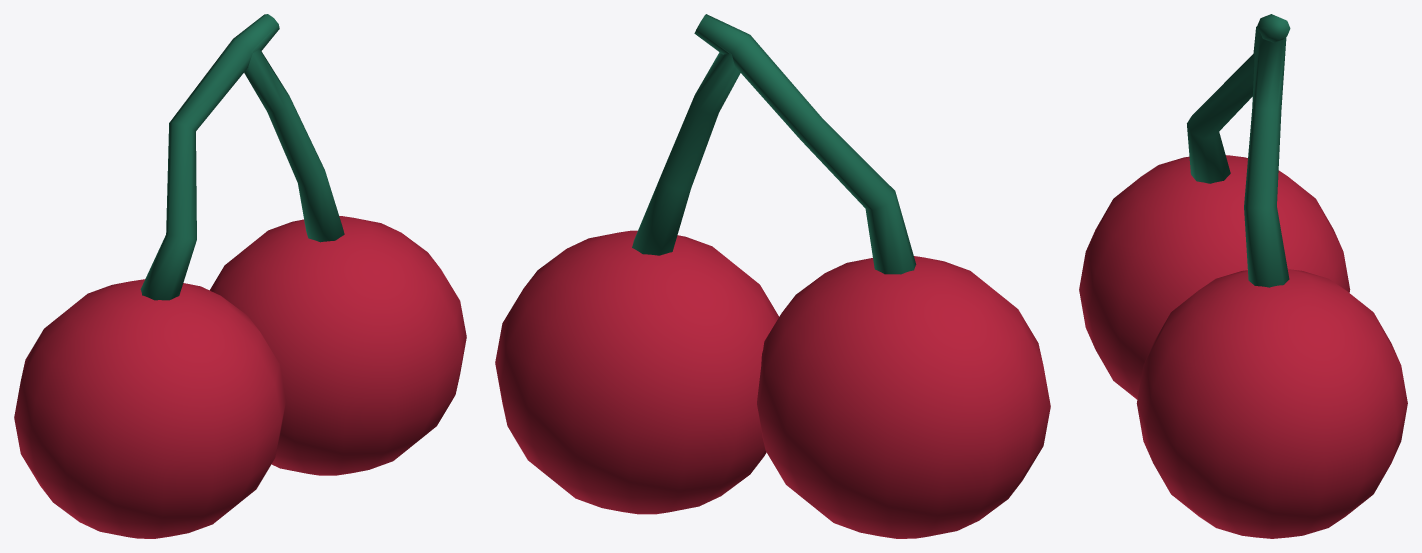
The model's file is cherry.glb.
The picture shows the model from 3 angles, left to right: view 1: azimuth 30°, elevation 25°; view 2: azimuth 150°, elevation 25°; view 3: azimuth 270°, elevation 25°; orthographic projection. The views are drawn at different scales.
Visible parts, largest first — view 1: cherry; view 2: cherry; view 3: cherry.
Part boxes in pixels (bbox=[...]): cherry: bbox=[14, 14, 466, 538]; cherry: bbox=[495, 14, 1050, 538]; cherry: bbox=[1079, 14, 1407, 538].
Size of the model in its own units: 0.586 by 0.5768 by 0.359.
